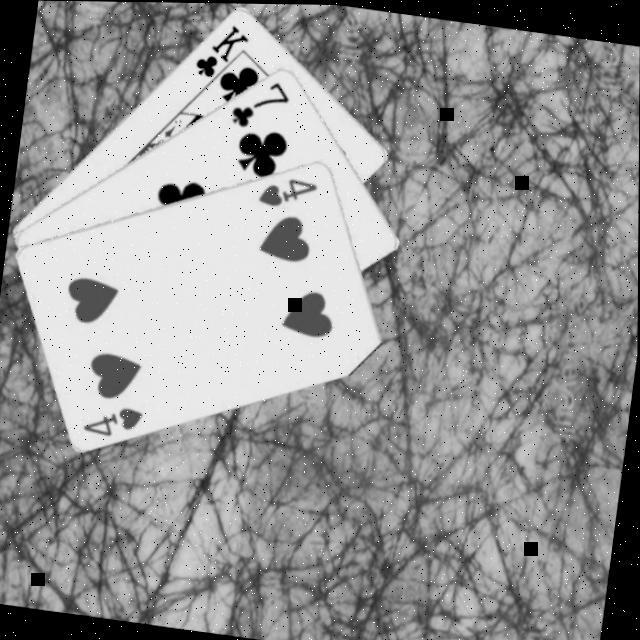4H: (80, 396, 148, 443), (255, 168, 322, 214)
7C: (227, 70, 295, 134)
KC: (189, 14, 254, 95)
